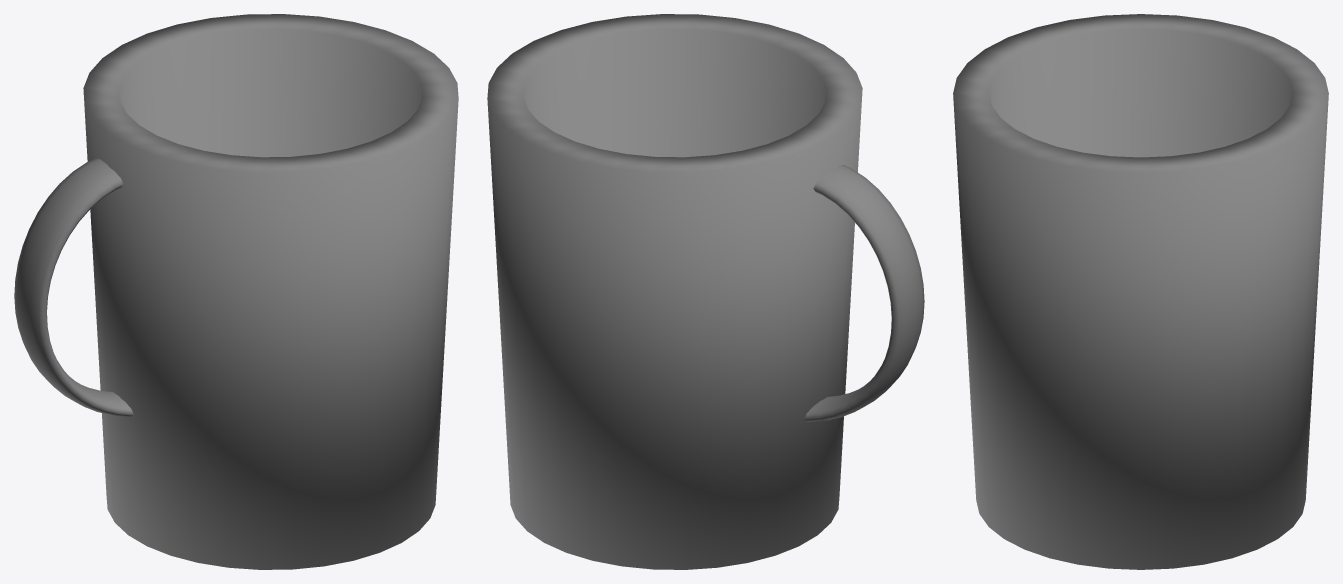
The model's file is Assets.fbx_Tasse_Kegel.fbx.
3 renders of one model, left to right at view 1: azimuth 30°, elevation 25°; view 2: azimuth 150°, elevation 25°; view 3: azimuth 270°, elevation 25°, orthographic.
Parts seen in each view (by area): view 1: Tasse.001; view 2: Tasse.001; view 3: Tasse.001.
Part boxes in pixels (x1,y1,x2,y2): Tasse.001: [14, 14, 458, 569]; Tasse.001: [487, 14, 924, 569]; Tasse.001: [953, 14, 1328, 569].
Size of the model in its own units: 12.97 by 12.38 by 10.36.
